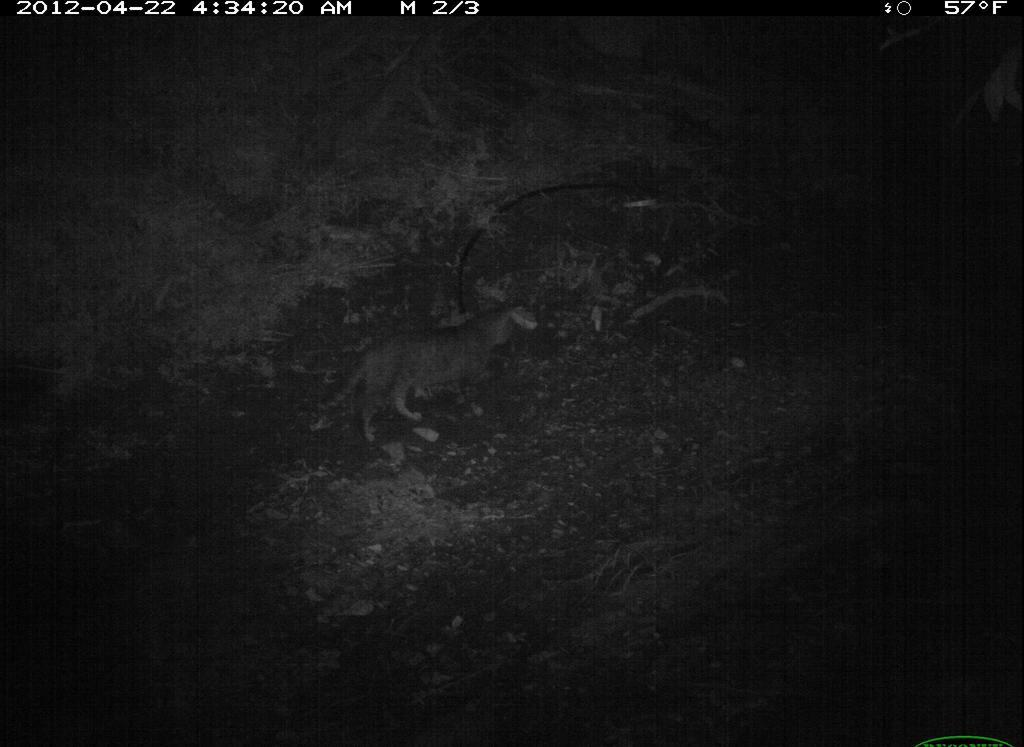cat: (307, 298, 533, 451)
